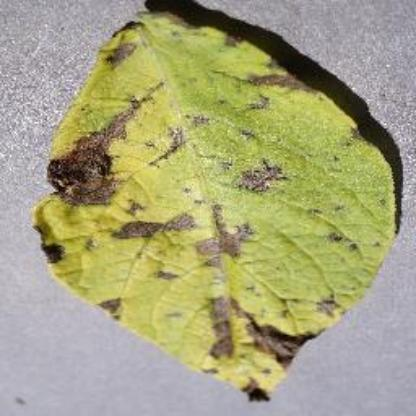Early-Blight: (28, 1, 408, 406)
